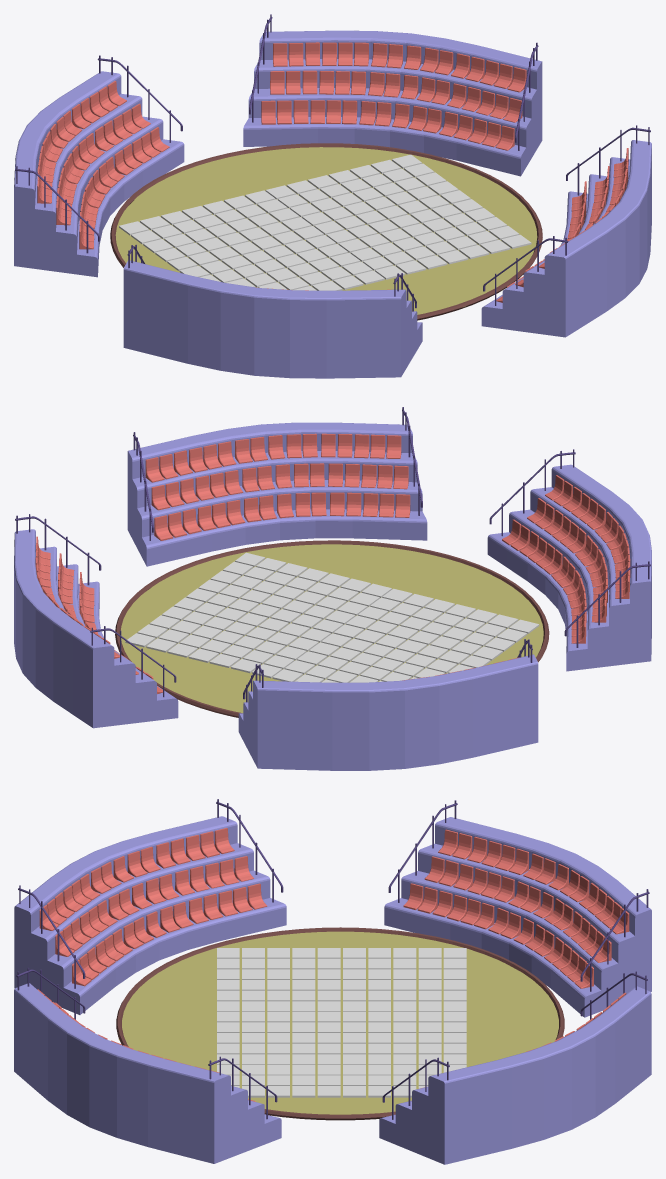
File: Scenario 1.fbx
3 renders of one model, top to bottom at view 1: azimuth 30°, elevation 25°; view 2: azimuth 150°, elevation 25°; view 3: azimuth 270°, elevation 25°, orthographic. The views are drawn at different scales.
Parts seen in each view (by area): view 1: Tablero, Base.001, Plane, Base.003, Base, Base.002, Seat_03.003, Seat_04.003, Seat_02.003, Torus, Seat_02.002, Seat_04.002 (+6 smaller); view 2: Tablero, Base.002, Base, Plane, Base.003, Base.001, Seat_03, Seat_04, Seat_02, Torus, Seat_03.001, Seat_04.001 (+6 smaller); view 3: Tablero, Plane, Base.003, Base, Base.001, Base.002, Seat_02.001, Seat_04.001, Seat_03.001, Seat_03.002, Seat_04.002, Seat_02.002 (+5 smaller).
Boxes of the visible parts, bbox=[...] form: Tablero: bbox=[119, 154, 531, 290]; Base.001: bbox=[123, 260, 422, 378]; Plane: bbox=[115, 147, 537, 314]; Base.003: bbox=[243, 30, 542, 176]; Base: bbox=[481, 140, 651, 337]; Base.002: bbox=[14, 71, 184, 277]; Seat_03.003: bbox=[261, 100, 514, 150]; Seat_04.003: bbox=[273, 42, 526, 92]; Seat_02.003: bbox=[270, 70, 522, 122]; Torus: bbox=[110, 143, 542, 320]; Seat_02.002: bbox=[56, 103, 150, 225]; Seat_04.002: bbox=[37, 81, 126, 203]; Tablero: bbox=[125, 552, 539, 682]; Base.002: bbox=[238, 654, 538, 770]; Base: bbox=[127, 422, 427, 566]; Plane: bbox=[121, 544, 543, 712]; Base.003: bbox=[14, 529, 178, 728]; Base.001: bbox=[487, 464, 651, 671]; Seat_03: bbox=[154, 492, 410, 540]; Seat_04: bbox=[145, 433, 401, 482]; Seat_02: bbox=[151, 463, 408, 510]; Torus: bbox=[115, 540, 549, 717]; Seat_03.001: bbox=[502, 519, 586, 643]; Seat_04.001: bbox=[545, 475, 630, 598]; Tablero: bbox=[217, 948, 466, 1097]; Plane: bbox=[118, 931, 558, 1114]; Base.003: bbox=[379, 986, 651, 1164]; Base: bbox=[14, 983, 281, 1163]; Base.001: bbox=[14, 816, 286, 1014]; Base.002: bbox=[384, 817, 651, 1017]; Seat_02.001: bbox=[55, 856, 253, 956]; Seat_04.001: bbox=[39, 828, 234, 930]; Seat_03.001: bbox=[72, 883, 267, 986]; Seat_03.002: bbox=[403, 883, 593, 988]; Seat_04.002: bbox=[438, 829, 629, 934]; Seat_02.002: bbox=[424, 856, 611, 962].
Size of the model in its own units: 5506 by 973 by 5571.
